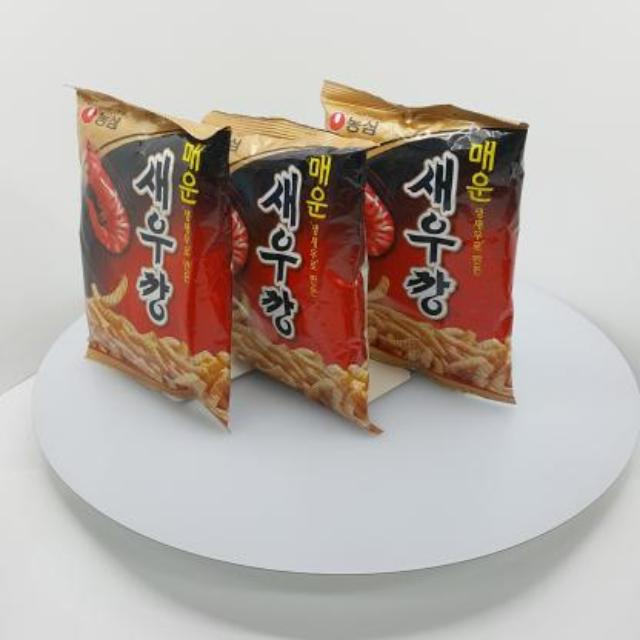snack_bag: (56, 70, 536, 444)
